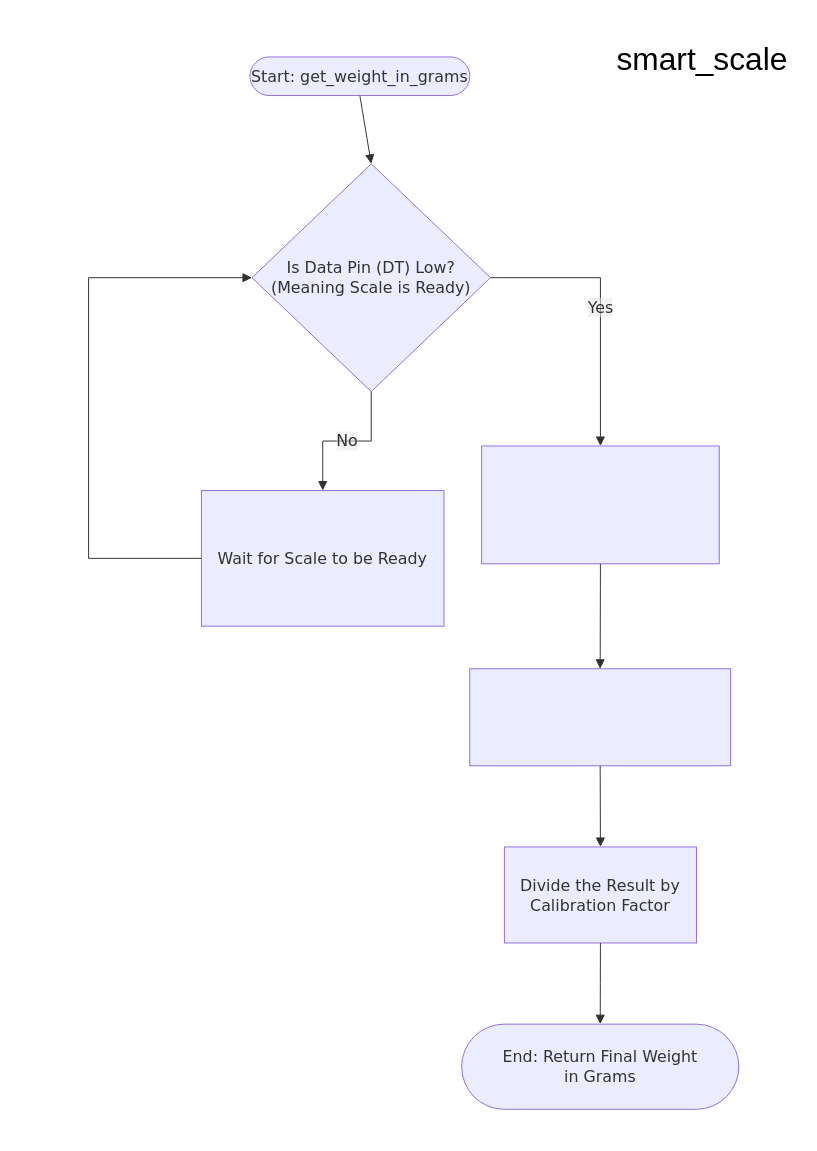
Some shapes in this 817 by 1151 pixel diagram are drawn without their labels. Each missing label, with the centre of its shape:
Send 24 Clock Pulses (SCK) to Read Raw Digital Bits: the point at 600,504
Subtract Tare Offset (Zero Point) from Raw Data: the point at 600,717
